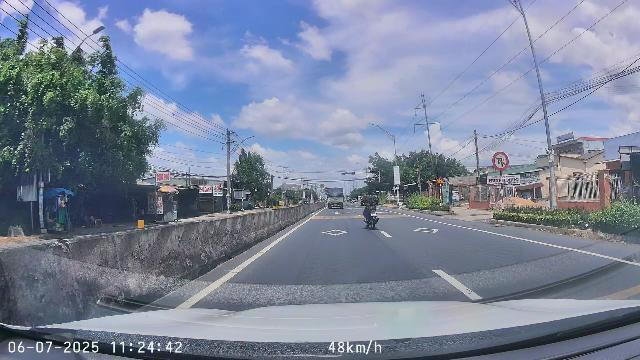124b-cam-oto-quay-dau-xe: (492, 152, 509, 171)
